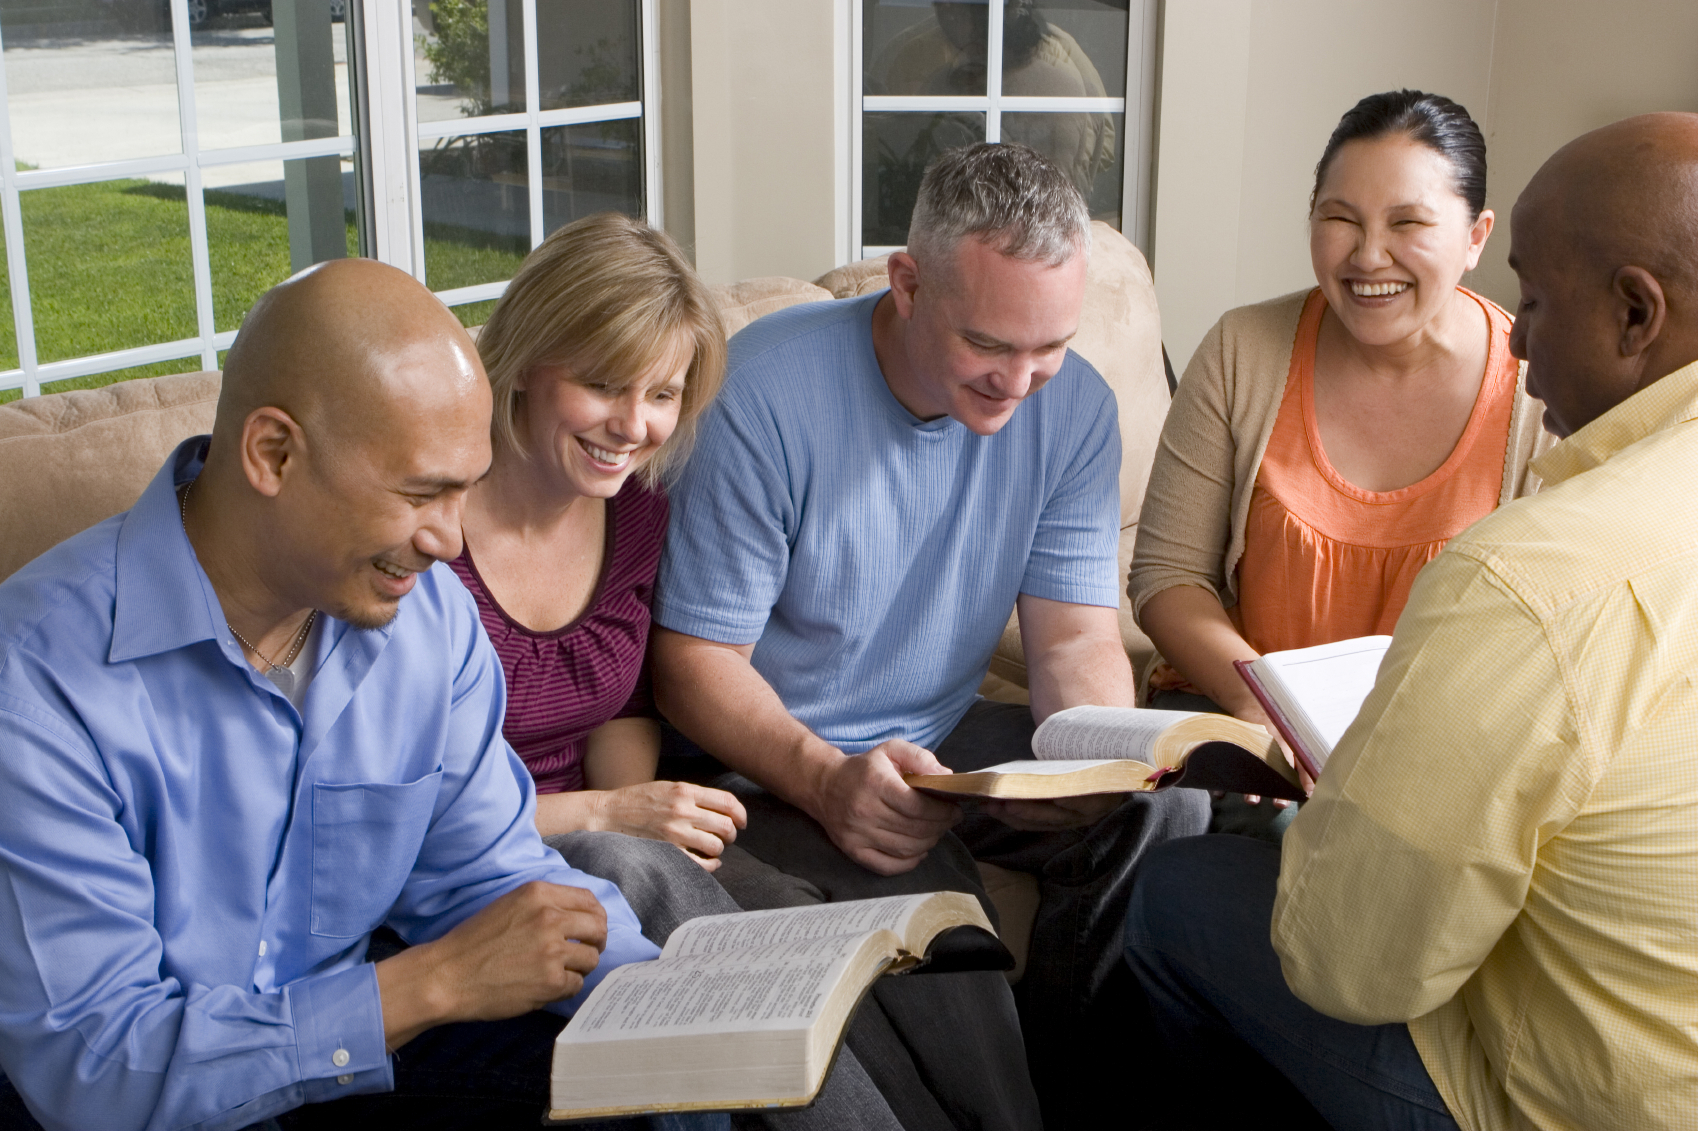Person: (57, 273, 482, 1131), (1457, 115, 1682, 1131), (782, 165, 1132, 798), (1249, 99, 1507, 716), (457, 248, 674, 840)
